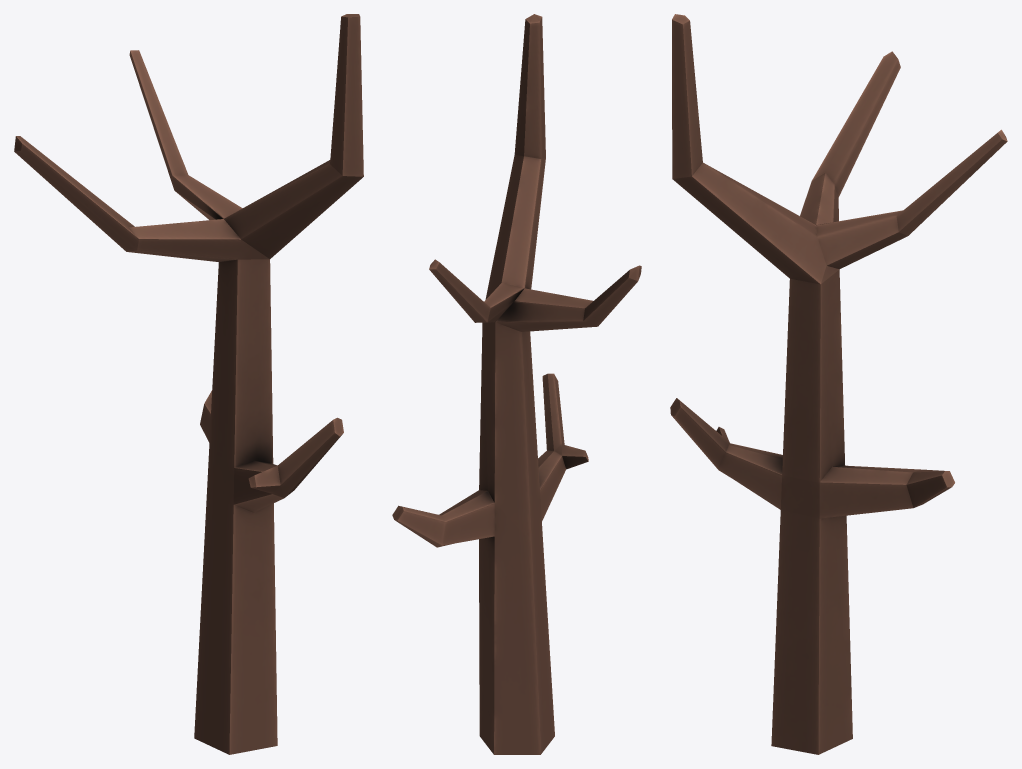
The model's file is Tree_11.fbx.
3 views of the same model, side by side, from view 1: azimuth 30°, elevation 25°; view 2: azimuth 150°, elevation 25°; view 3: azimuth 270°, elevation 25° (orthographic). The views are drawn at different scales.
Parts seen in each view (by area): view 1: Tree_11; view 2: Tree_11; view 3: Tree_11.
Part boxes in pixels (box(x1,y1,x2,y2)): Tree_11: box(14, 14, 363, 754); Tree_11: box(392, 14, 641, 754); Tree_11: box(670, 14, 1007, 754).
Bounding box in the file's own units: 34.36 × 99.01 × 40.78.
